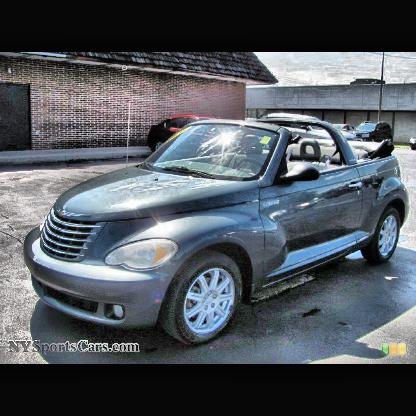Chrysler PT Cruiser Convertible 2008: (11, 106, 416, 350)
